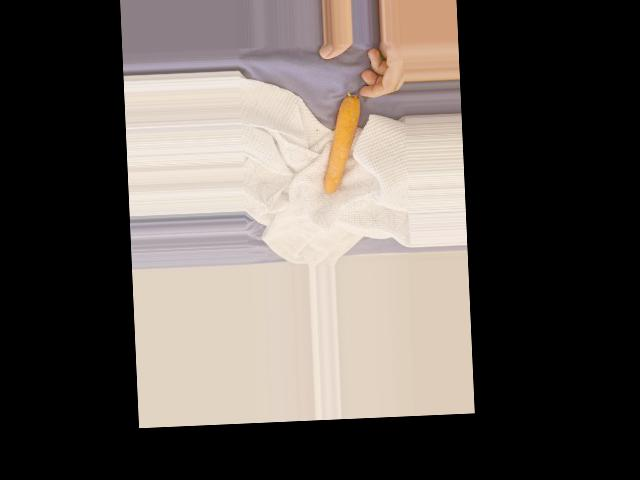carrot: (320, 93, 363, 194)
